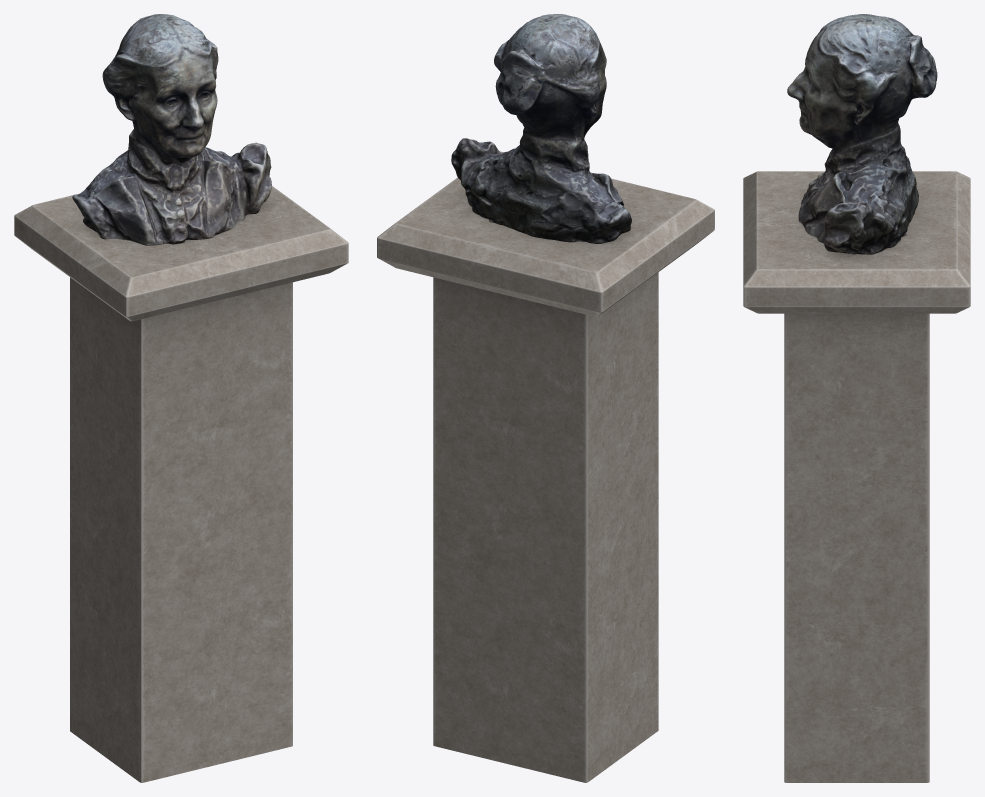
The model's file is MyMother.glb.
3 views of the same model, side by side, from view 1: azimuth 30°, elevation 25°; view 2: azimuth 150°, elevation 25°; view 3: azimuth 270°, elevation 25° (orthographic).
Parts seen in each view (by area): view 1: SM_MyMother; view 2: SM_MyMother; view 3: SM_MyMother.
Part boxes in pixels (<box>): SM_MyMother: <box>14,14,348,782</box>; SM_MyMother: <box>377,14,714,782</box>; SM_MyMother: <box>743,14,970,782</box>.
Size of the model in its own units: 0.48 by 1.47 by 0.42.
Materials: 1 (1 with a texture image).
